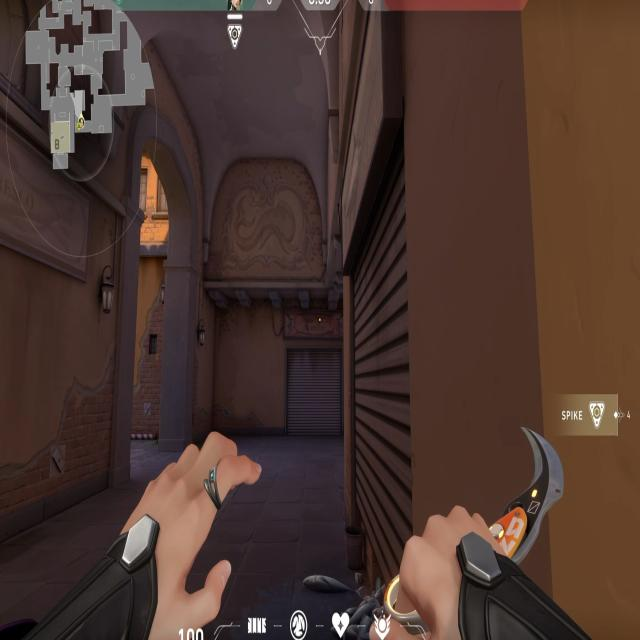B_Main_Corner: (343, 13, 410, 623)
